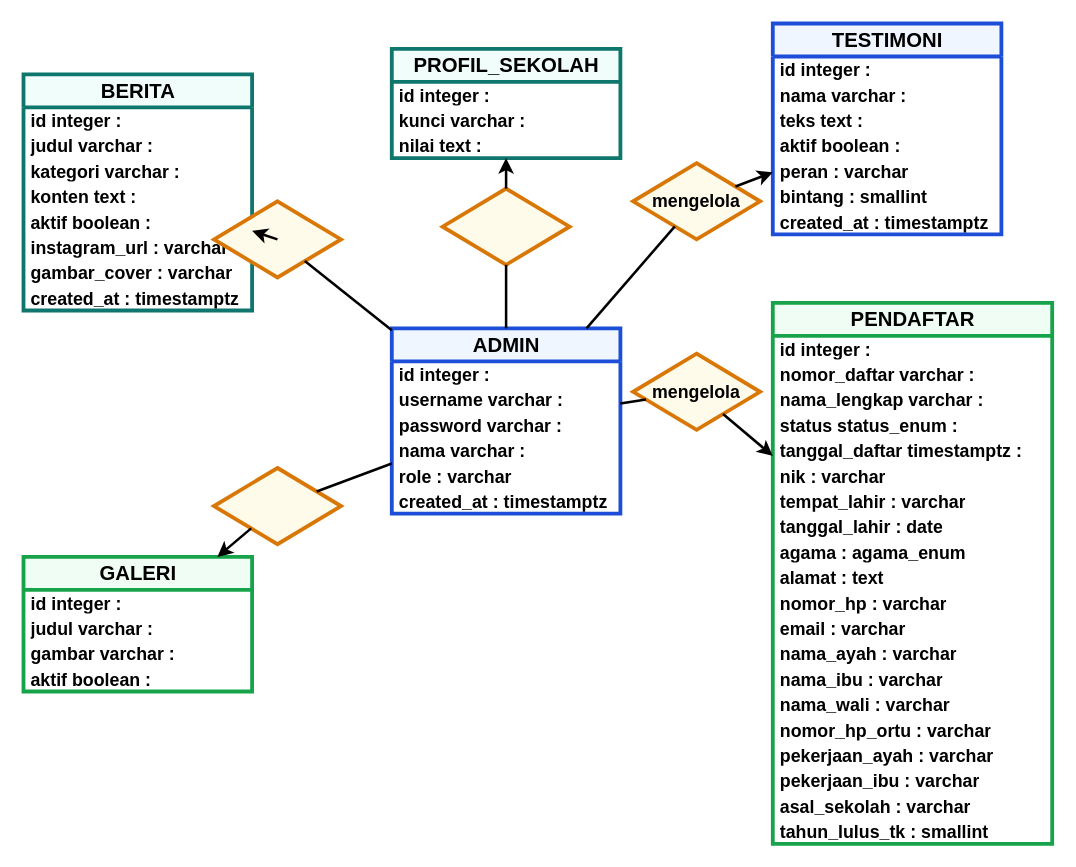
This 1076x867 diagram has some shape labels left out. Each missing label, with the centre of its shape:
membuat: the point at 276,239
mengedit: the point at 505,226
mengunggah: the point at 276,505
